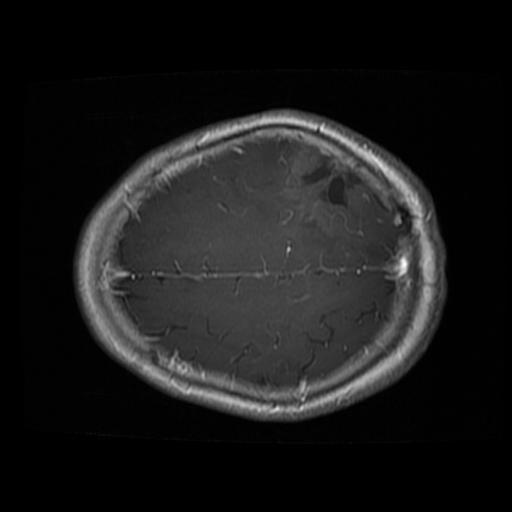glioma: (281, 141, 378, 235)
